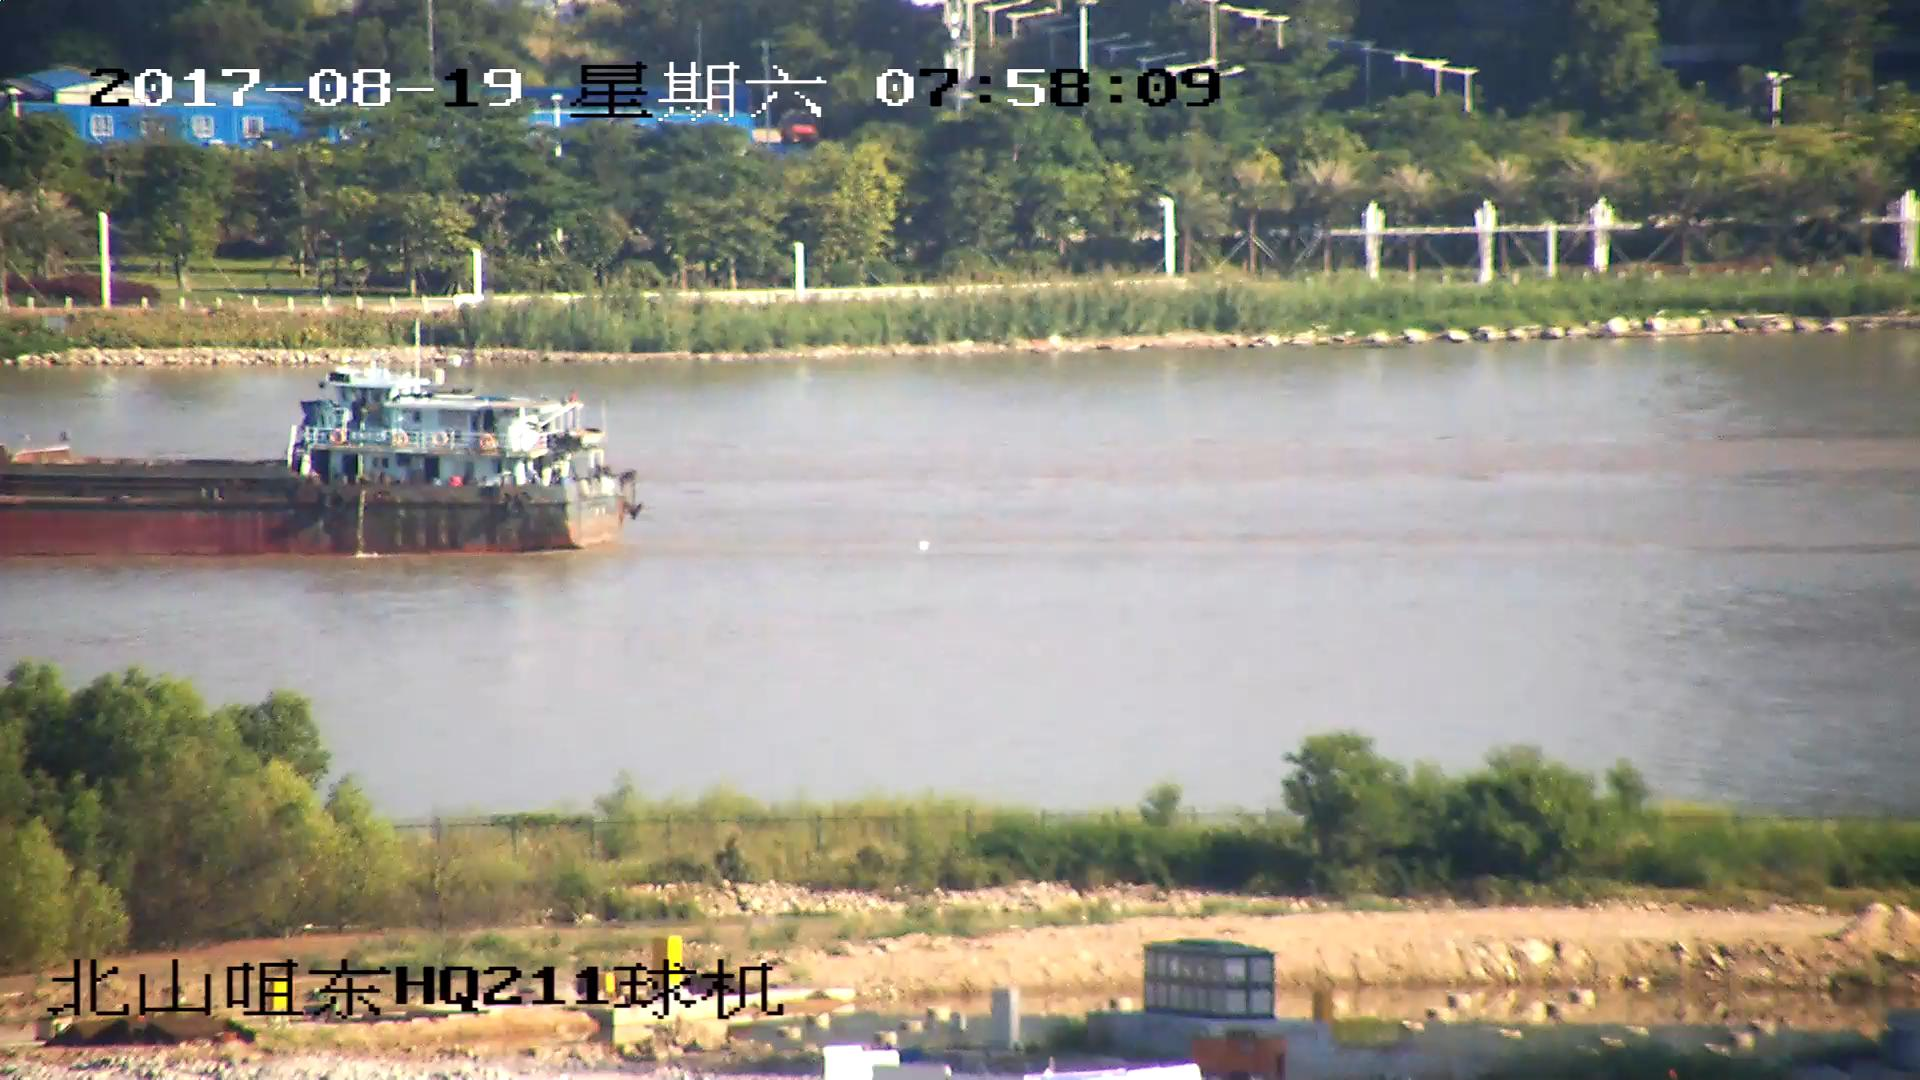bulk cargo carrier: (1, 350, 637, 554)
